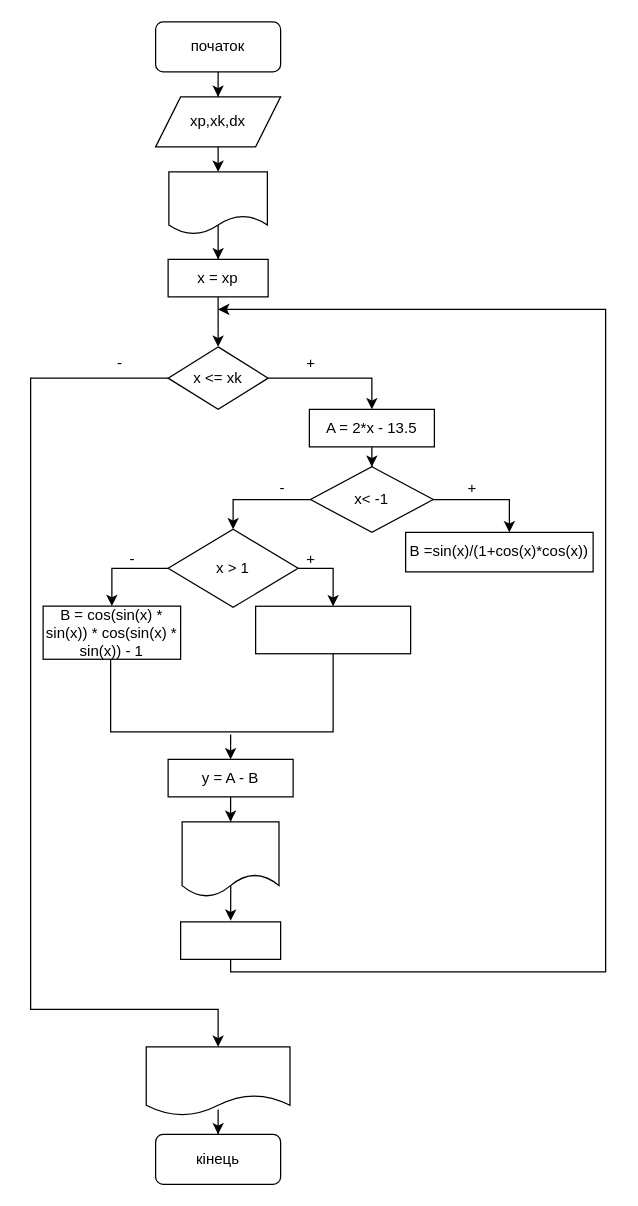
Image size: 638x1206. Some labels were removed from this diagram. Each missing label, with the box of its shape:
B = log10(x + 0.4): (254, 605, 411, 654)
x += dx: (179, 921, 281, 959)
Нижня лінія таблиці: (145, 1046, 290, 1116)
таблиця зі значеннями x та y: (181, 821, 279, 897)
Шапка таблиці: (168, 171, 267, 234)
